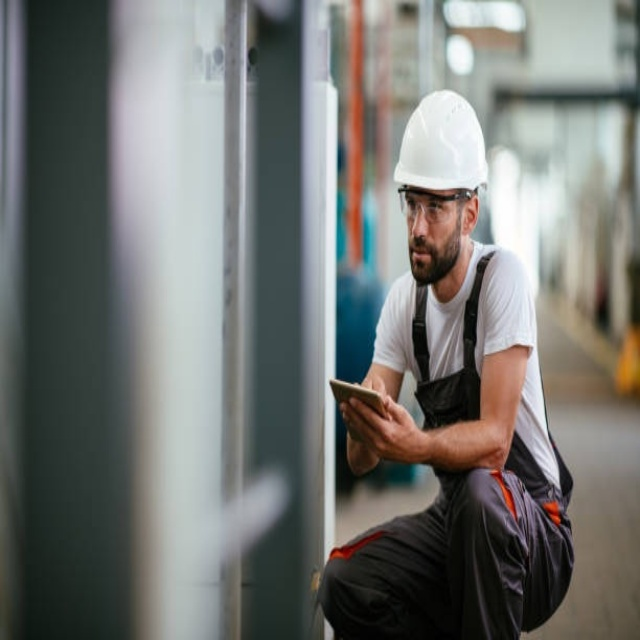Gafas: (399, 187, 472, 224)
Sin_guantes: (339, 386, 407, 460)
Sin_mascara: (410, 238, 437, 275)
